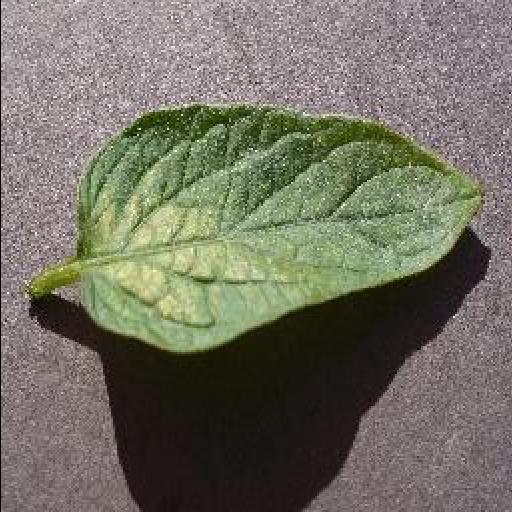disease_tomato: (73, 100, 487, 356)
